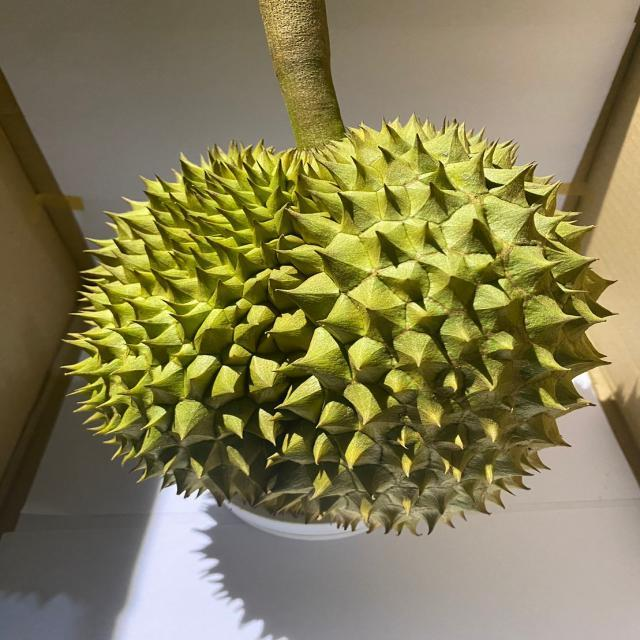immature: (61, 112, 619, 536)
